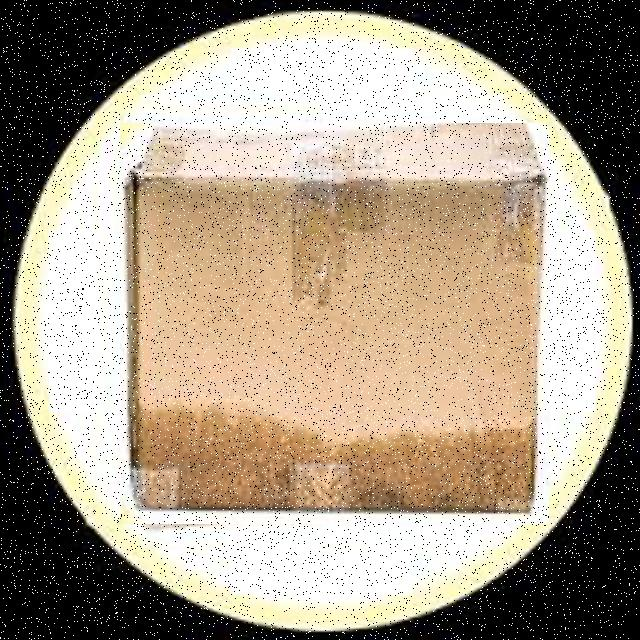defect: (119, 123, 548, 524)
